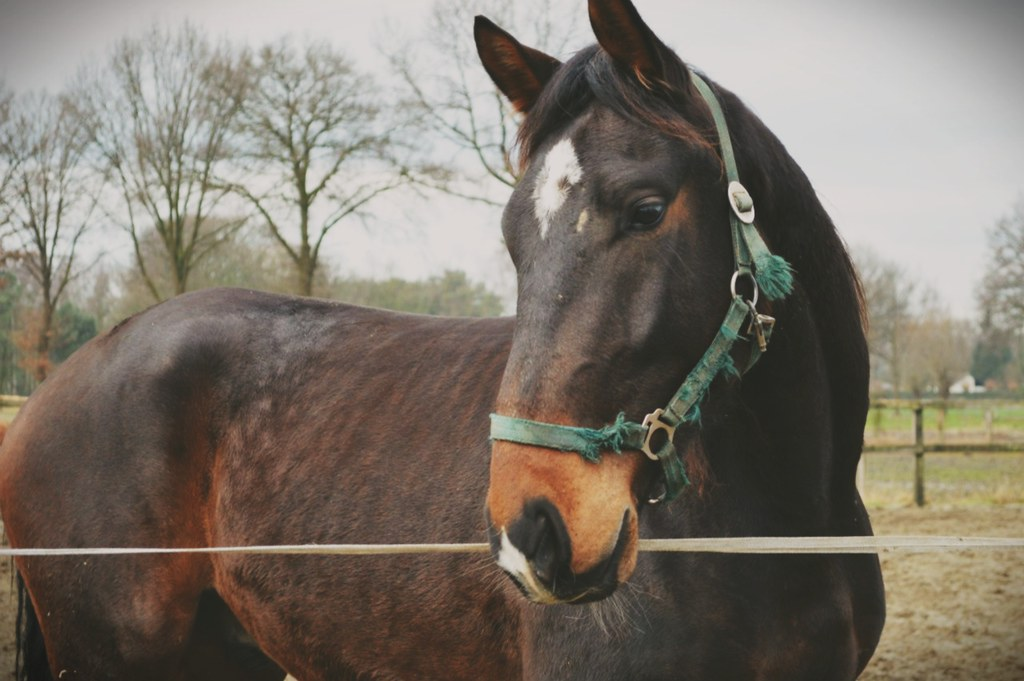horse: (4, 14, 972, 675)
